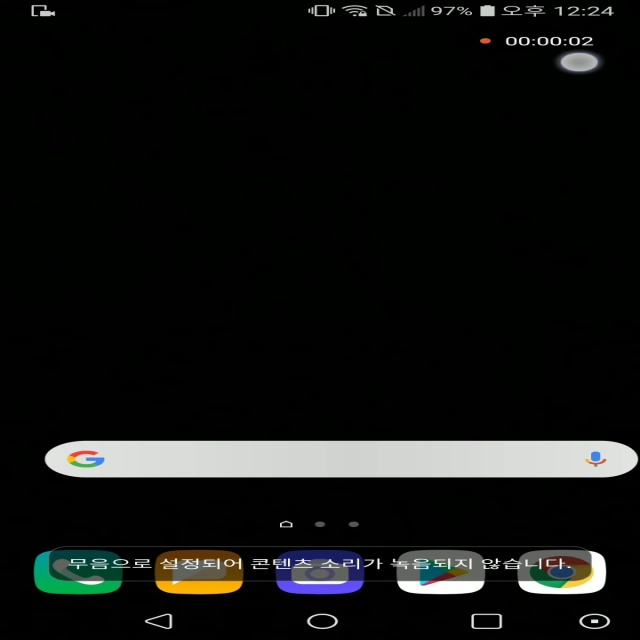Cursor: (556, 51, 600, 73)
